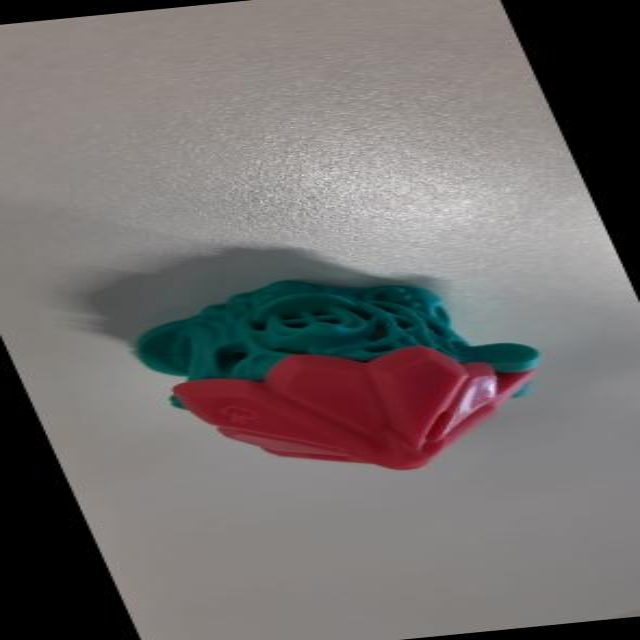House: (91, 254, 607, 506)
